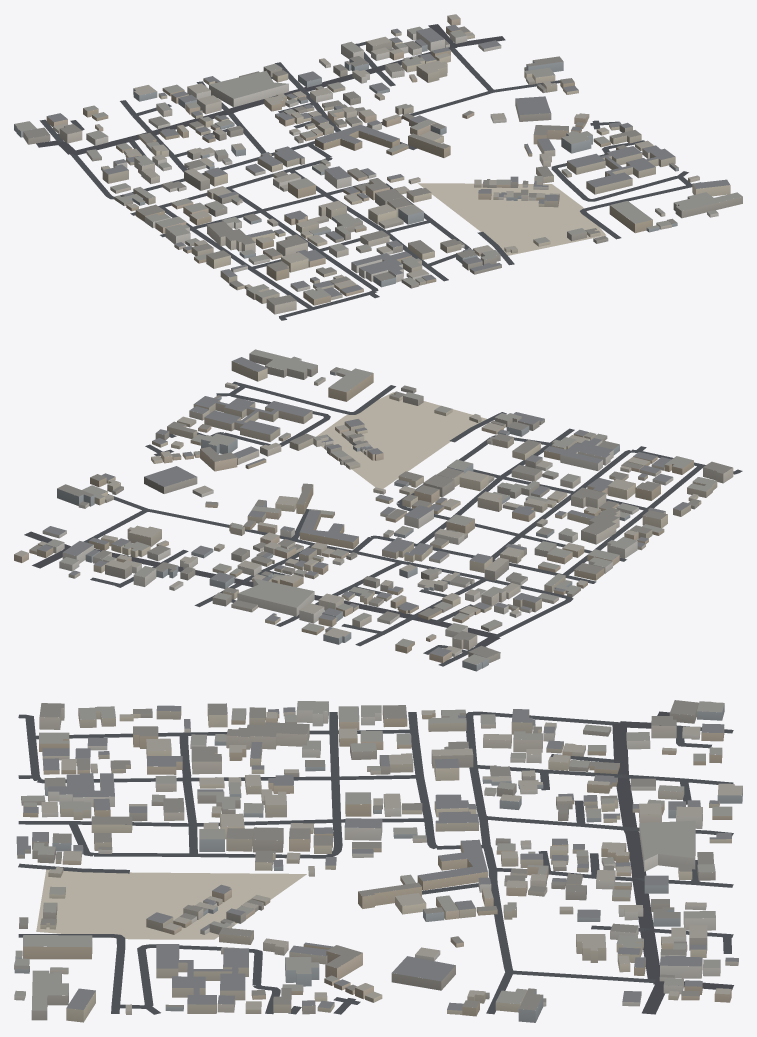
3 renders of one model, top to bottom at view 1: azimuth 30°, elevation 25°; view 2: azimuth 150°, elevation 25°; view 3: azimuth 270°, elevation 25°, orthographic. The views are drawn at different scales.
Visible parts, largest first — view 1: buildings_roofs, buildings_walls, roads, landuse; view 2: buildings_roofs, buildings_walls, roads, landuse; view 3: buildings_roofs, buildings_walls, roads, landuse.
Part boxes in pixels (x1=…): buildings_roofs: x1=14, y1=14, x2=742, y2=305; buildings_walls: x1=14, y1=16, x2=742, y2=314; roads: x1=36, y1=24, x2=700, y2=320; landuse: x1=418, y1=183, x2=606, y2=255; buildings_roofs: x1=14, y1=349, x2=732, y2=664; buildings_walls: x1=14, y1=354, x2=733, y2=671; roads: x1=24, y1=381, x2=742, y2=666; landuse: x1=316, y1=392, x2=486, y2=488; buildings_roofs: x1=14, y1=700, x2=742, y2=1010; buildings_walls: x1=14, y1=703, x2=742, y2=1022; roads: x1=18, y1=711, x2=733, y2=1014; landuse: x1=36, y1=869, x2=306, y2=939.
Bounding box in the file's own units: 521 × 9.62 × 510.
